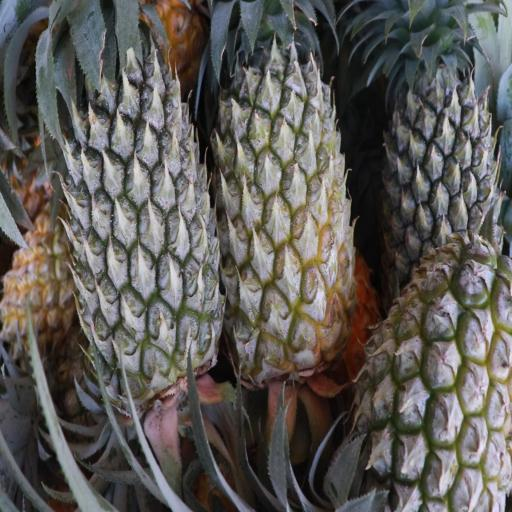------------------------------: (214, 11, 356, 364), (364, 243, 511, 512)
Pineapple - v8 v1: (0, 204, 80, 355)
